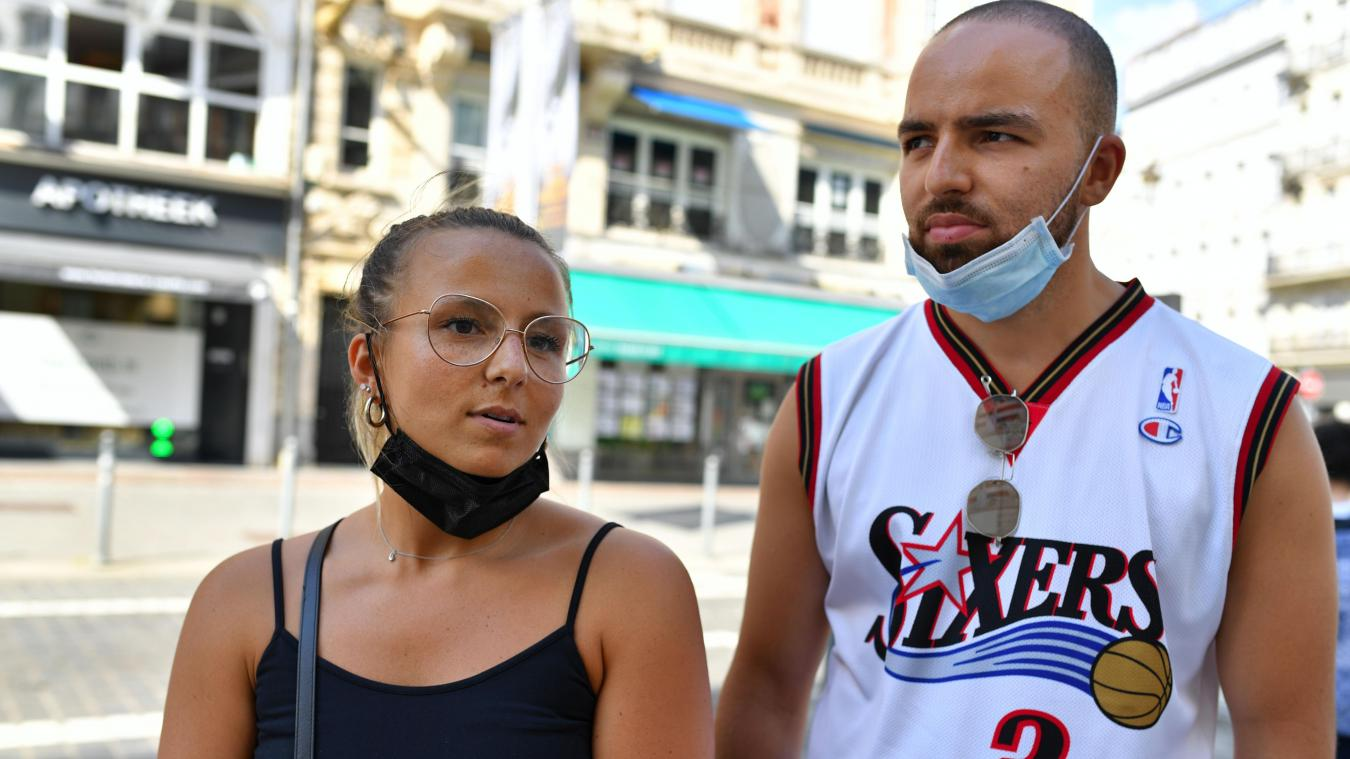with_incorrect_mask: (352, 208, 592, 539), (885, 12, 1126, 325)
